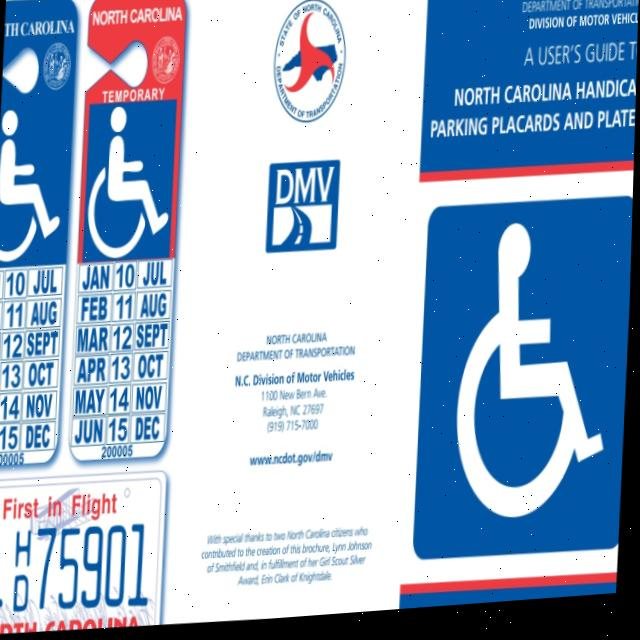symbol_of_access: (429, 212, 631, 552), (85, 102, 174, 261), (0, 102, 71, 268), (0, 523, 11, 618)
